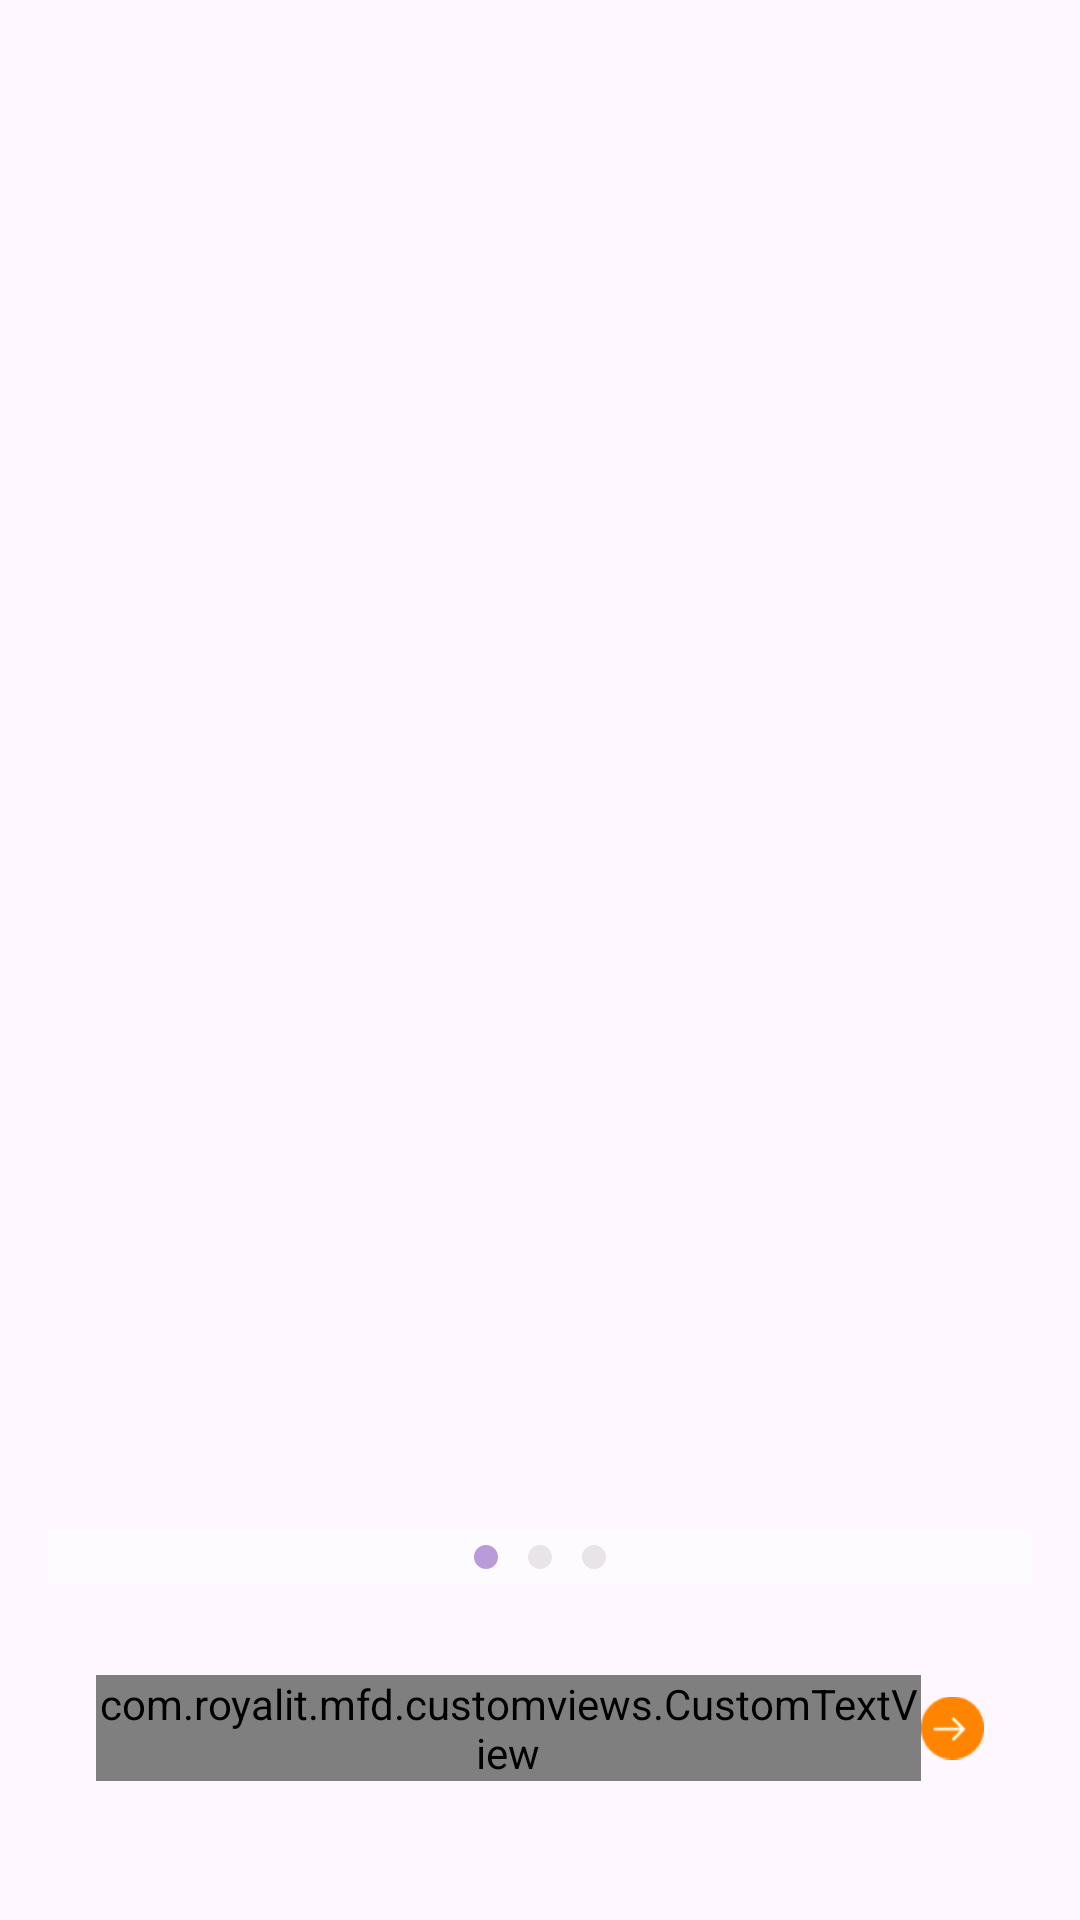

Where to tap for icons on this 1080x1920 app screen, as point (x, y):
next: point (952, 1728)
